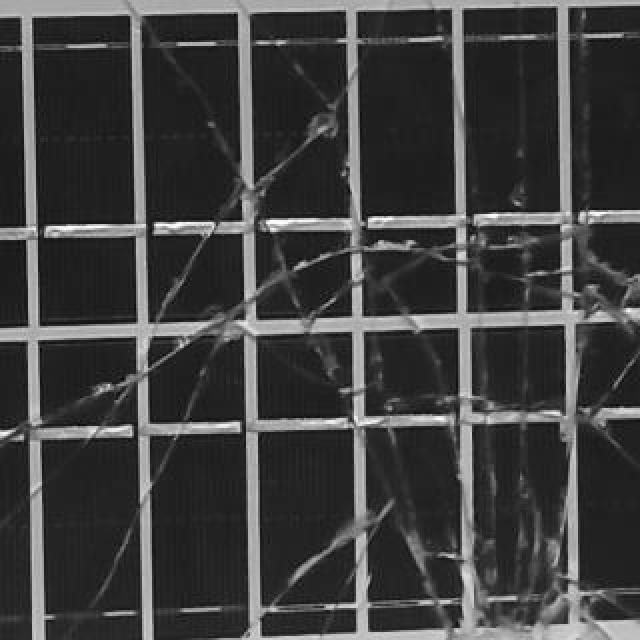Physical-damage: (0, 11, 631, 632)
